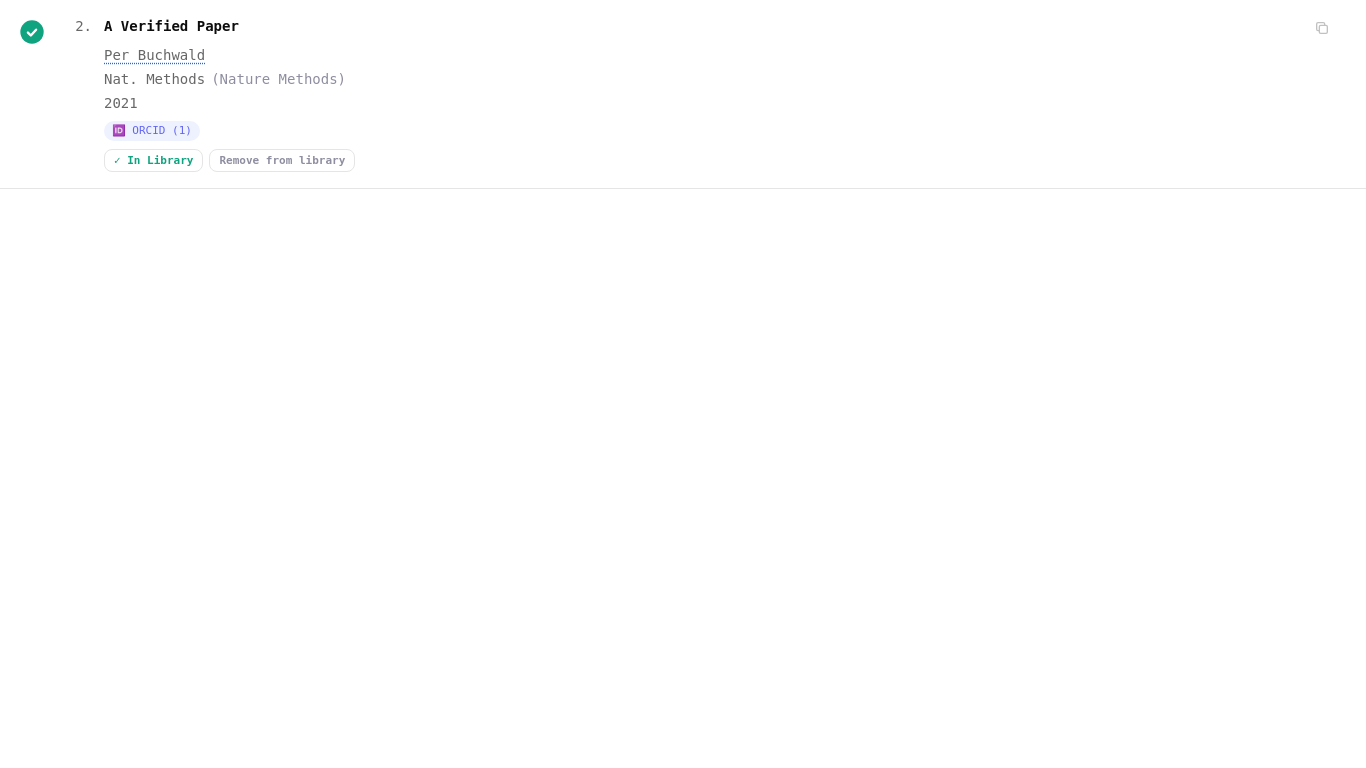
it: ReferenceCard author popover — dismissal › dismisses a CLICK-opened (pinned) popover when the pointer leaves it
Note: A plain left-click on an enriched author pins the popover open.
Click the link "Per Buchwald": (155, 55) [104,47,205,63]
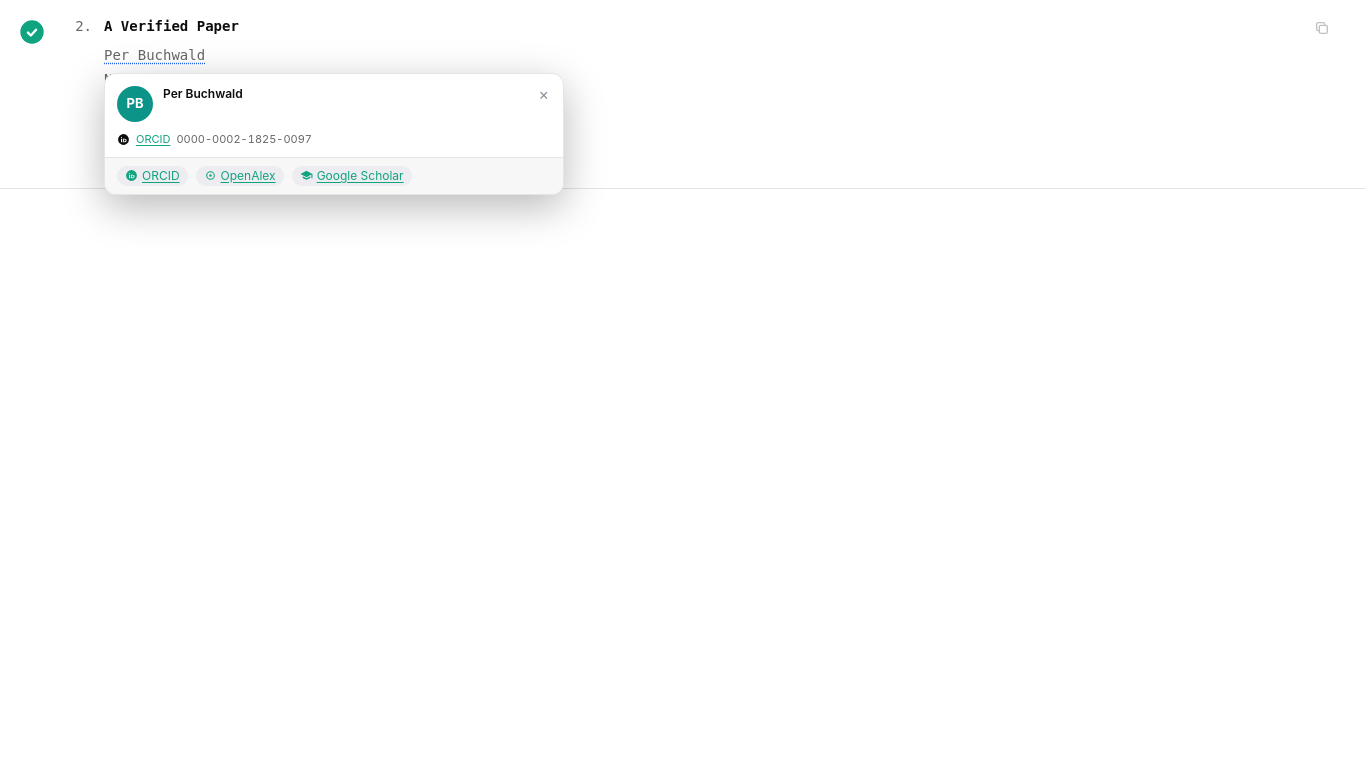
Result: the dialog is shown
Move the pointer off the dialog, box [104,73,564,195]
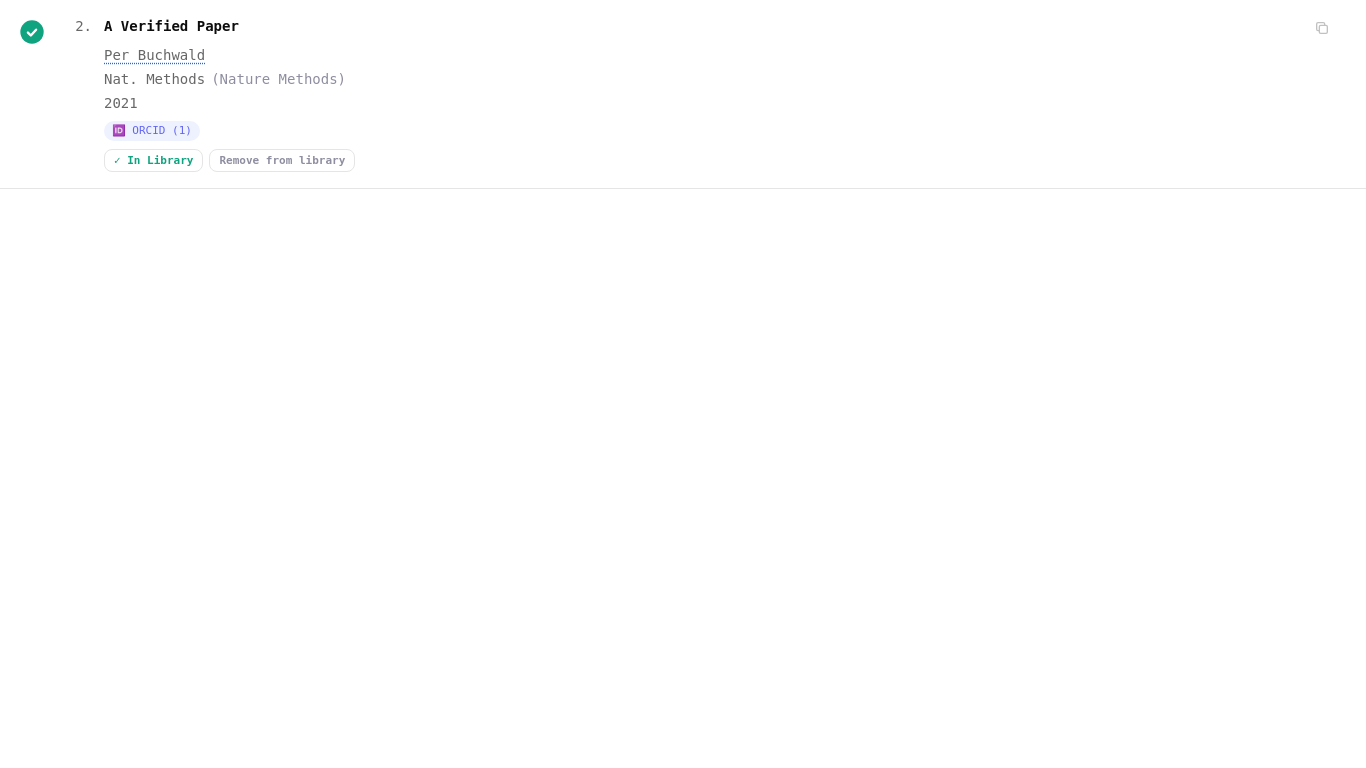
Result: the dialog is gone
